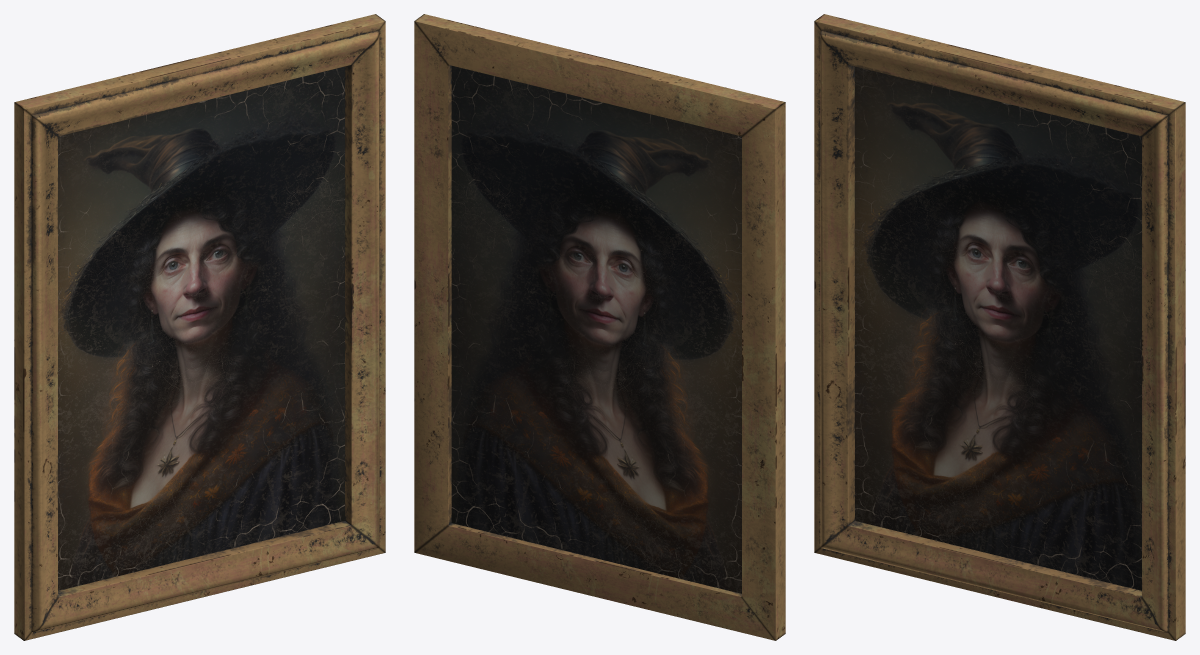
The model's file is old_portrait_of_witch.glb.
The picture shows the model from 3 angles, left to right: view 1: azimuth 30°, elevation 25°; view 2: azimuth 150°, elevation 25°; view 3: azimuth 330°, elevation 25°; orthographic projection.
Visible parts, largest first — view 1: Witch_01_Linum_low; view 2: Witch_01_Linum_low; view 3: Witch_01_Linum_low.
Part boxes in pixels (bbox=[...]): Witch_01_Linum_low: bbox=[14, 14, 385, 640]; Witch_01_Linum_low: bbox=[414, 14, 785, 640]; Witch_01_Linum_low: bbox=[814, 14, 1185, 640].
Bounding box in the file's own units: 0.4097 × 0.576 × 0.0265.
1 material, 1 textured.
